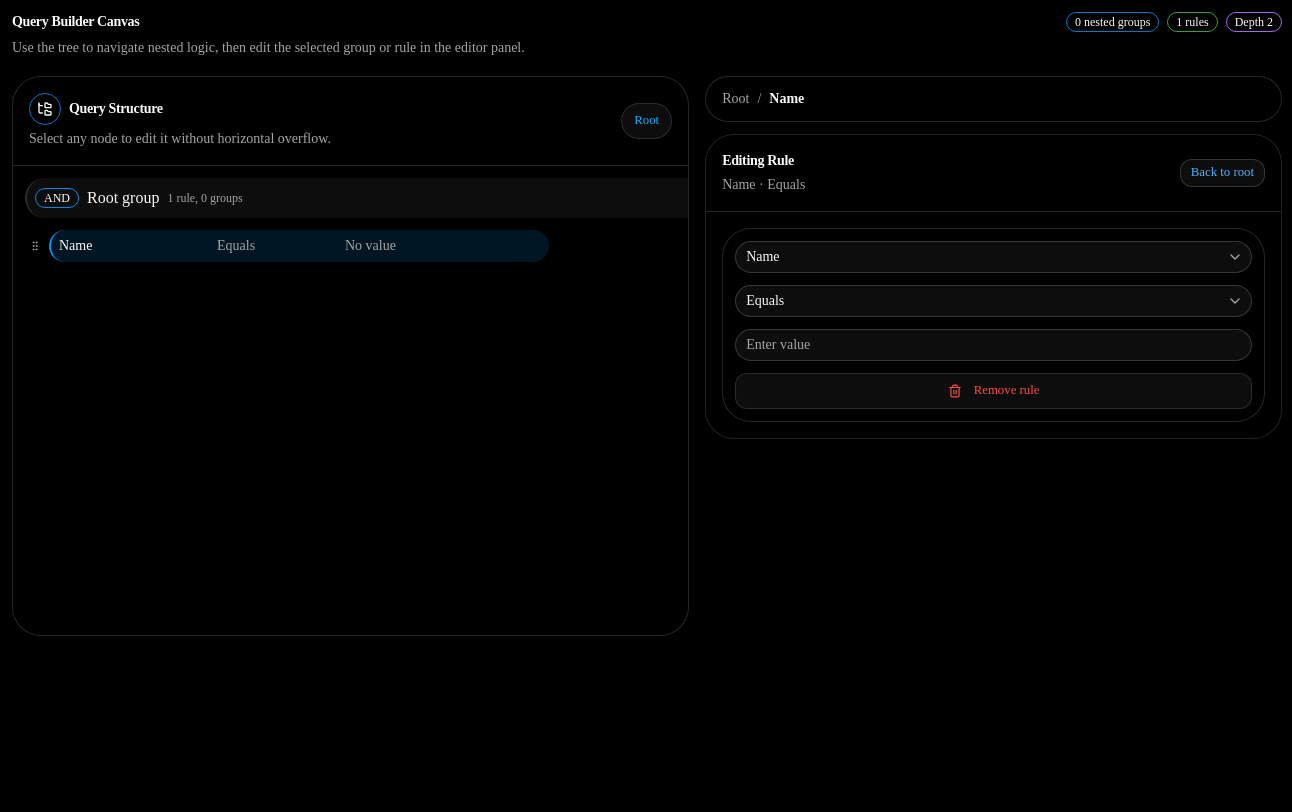
Test: QueryBuilder › adds a nested group through the root group action
The image size is (1292, 812).
Click the button "Back to root" at (1222, 173), box [1180,159,1265,187]
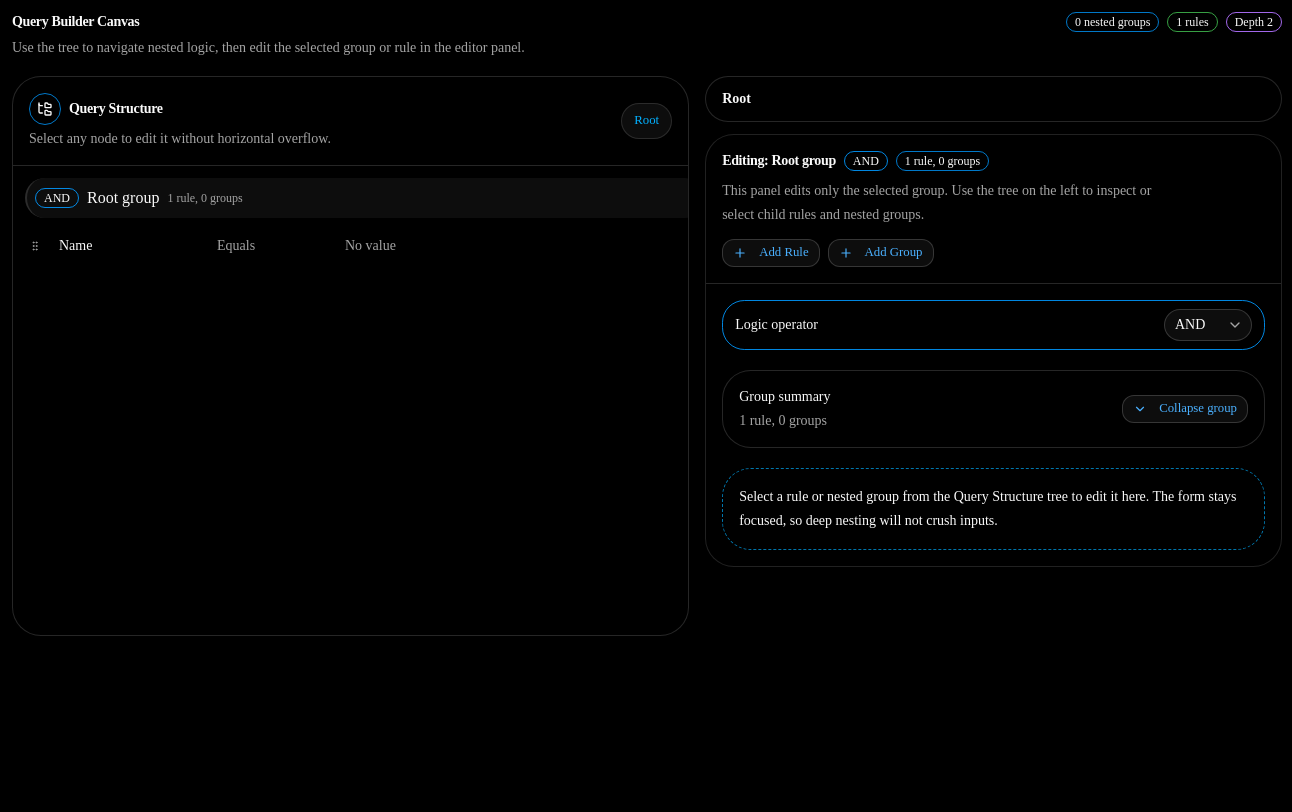
Click the button "Add Group" at (881, 253), box [828,239,934,267]
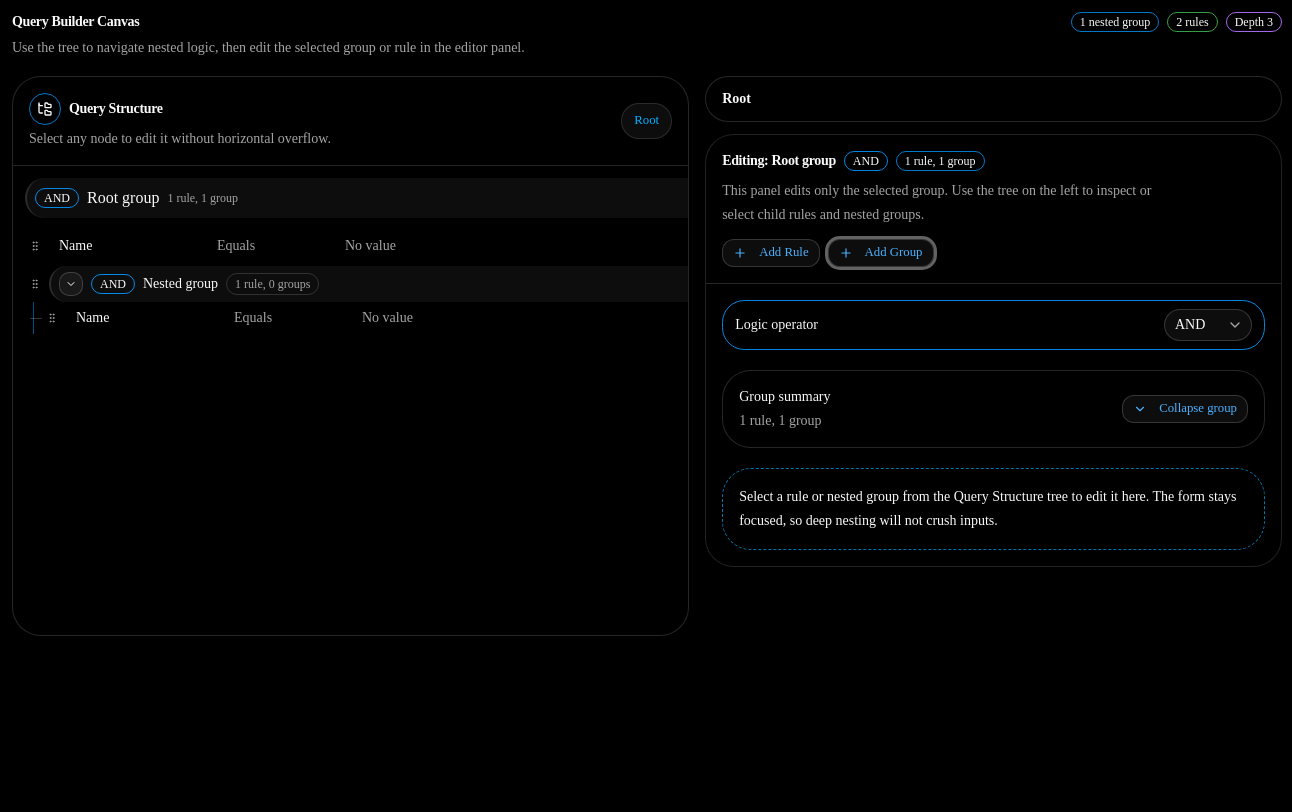
Result: the text "1 nested group" is shown at [1071,12,1159,32]
Result: the icon "Depth 3" is shown at [1226,12,1282,32]
